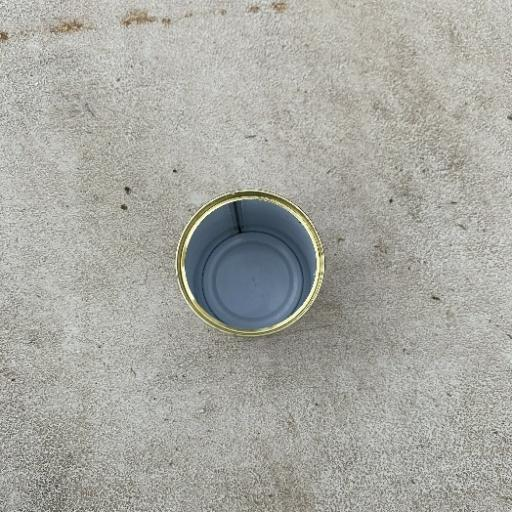Metal: (173, 188, 325, 339)
